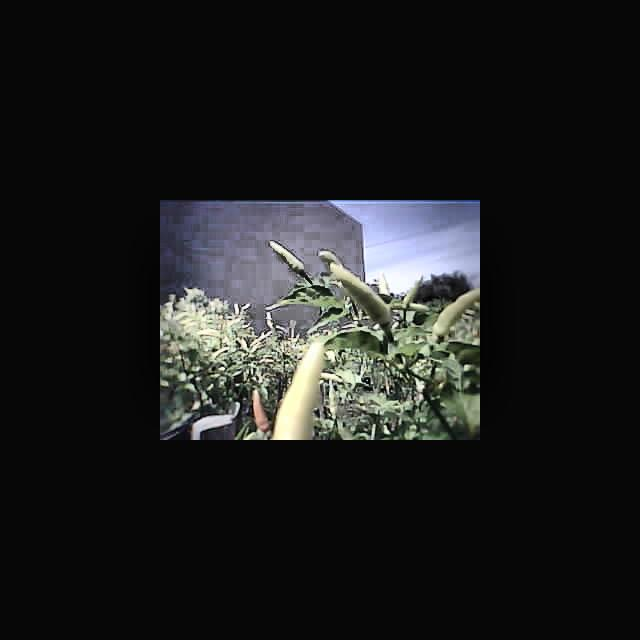Cabai: (246, 387, 272, 437)
